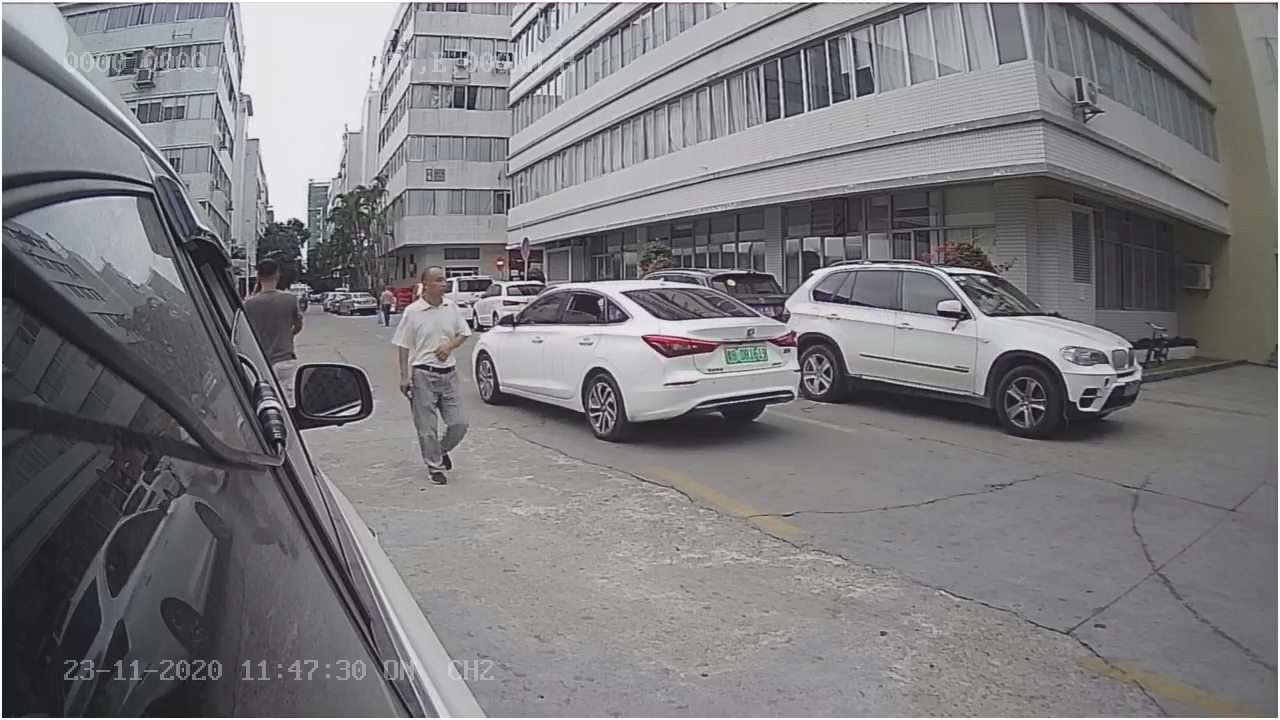person: (391, 250, 469, 487)
